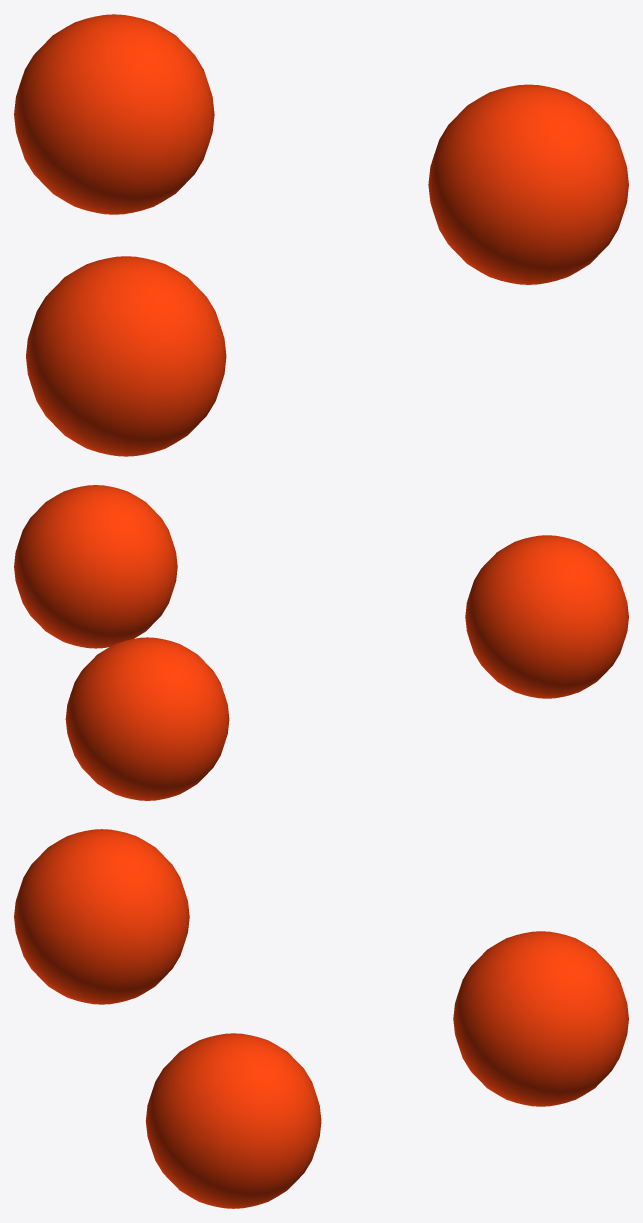
File: equipamiento_pelotas.obj
3 views of the same model, one above another, from view 1: azimuth 30°, elevation 25°; view 2: azimuth 150°, elevation 25°; view 3: azimuth 270°, elevation 25° (orthographic). The views are drawn at different scales.
Parts seen in each view (by area): view 1: Pelota_Repuesto_1, Pelota_Repuesto_3, Pelota_Repuesto_2; view 2: Pelota_Repuesto_1, Pelota_Repuesto_3, Pelota_Repuesto_2; view 3: Pelota_Repuesto_3, Pelota_Repuesto_1, Pelota_Repuesto_2.
Part boxes in pixels (box(x1,y1,x2,y2)): Pelota_Repuesto_1: box(26, 256, 226, 456); Pelota_Repuesto_3: box(14, 14, 214, 214); Pelota_Repuesto_2: box(428, 84, 628, 284); Pelota_Repuesto_1: box(465, 535, 628, 698); Pelota_Repuesto_3: box(65, 637, 229, 800); Pelota_Repuesto_2: box(14, 485, 177, 648); Pelota_Repuesto_3: box(453, 931, 628, 1106); Pelota_Repuesto_1: box(14, 829, 189, 1004); Pelota_Repuesto_2: box(145, 1033, 321, 1208).
Size of the model in its own units: 0.3 by 0.08 by 0.28.
